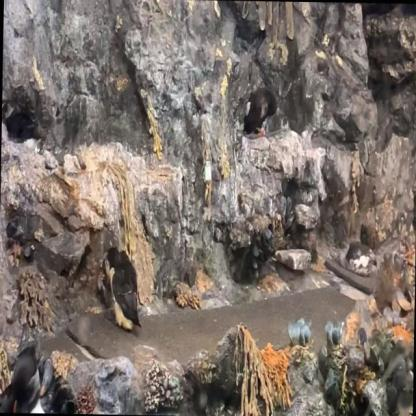puffin: (101, 244, 144, 334), (0, 346, 50, 413), (242, 85, 277, 137), (1, 99, 37, 140)
